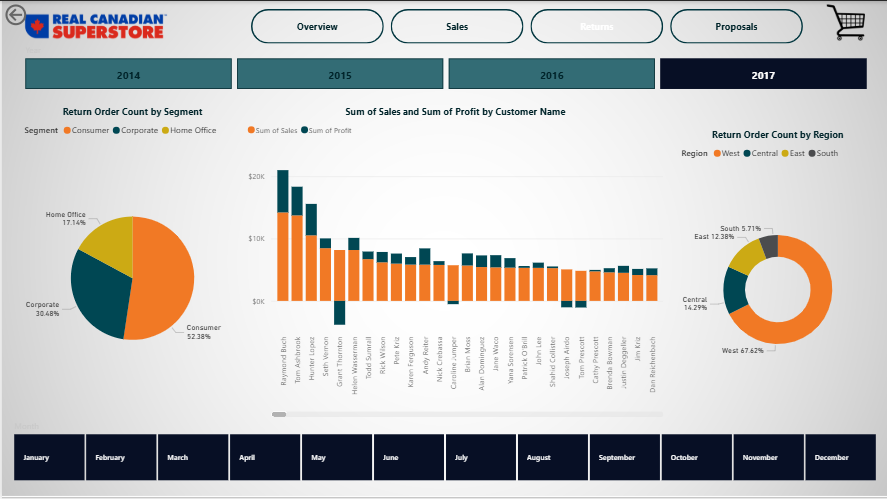

This screenshot's page, from the dashboard's own definition file:
{"tool":"powerbi","page":{"name":"Returns","canvas":[1280,720],"ordinal":2},"visuals":[{"type":"pieChart","fields":{"Category":["Orders.Segment"],"Y":["Orders.Return Order Count"]},"box":[27,150.3,322.5,455.9],"z":0},{"type":"donutChart","fields":{"Category":["Orders.Region"],"Y":["Orders.Return Order Count"]},"box":[977.7,184.1,288.8,422.2],"z":1000},{"type":"pageNavigator","box":[360,11.6,799.5,50.6],"z":2000},{"type":"image","box":[27.5,4.3,216.9,65.1],"z":3000},{"type":"image","box":[1159.5,0,120,62.2],"z":4000},{"type":"advancedSlicerVisual","fields":{"Values":["Orders.Order Date.Variation.Date Hierarchy.Month"]},"box":[13,605.8,1265.1,92.5],"z":5000},{"type":"advancedSlicerVisual","fields":{"Values":["Orders.Order Date.Variation.Date Hierarchy.Year"]},"box":[28.9,62.2,1228.9,70.8],"z":6000},{"type":"columnChart","fields":{"Category":["Orders.Customer Name"],"Y":["Orders.Sales","Orders.Profit"]},"box":[349.6,150.3,611.3,455.9],"z":7000},{"type":"actionButton","box":[0,0,100,40],"z":8000}]}

Visuals, with their boxes in screenshot pixels (x1, y1, x2, y2), scaled from the page's 1280x720 canvas onto the 887x499 screenshot:
pieChart - Orders.Segment x Orders.Return Order Count: bbox=(19, 104, 242, 420)
donutChart - Orders.Region x Orders.Return Order Count: bbox=(678, 128, 878, 420)
pageNavigator: bbox=(249, 8, 803, 43)
image: bbox=(19, 3, 169, 48)
image: bbox=(803, 0, 886, 43)
advancedSlicerVisual - Orders.Order Date.Variation.Date Hierarchy.Month: bbox=(9, 420, 886, 484)
advancedSlicerVisual - Orders.Order Date.Variation.Date Hierarchy.Year: bbox=(20, 43, 872, 92)
columnChart - Orders.Customer Name x Orders.Sales: bbox=(242, 104, 666, 420)
actionButton: bbox=(0, 0, 69, 28)
